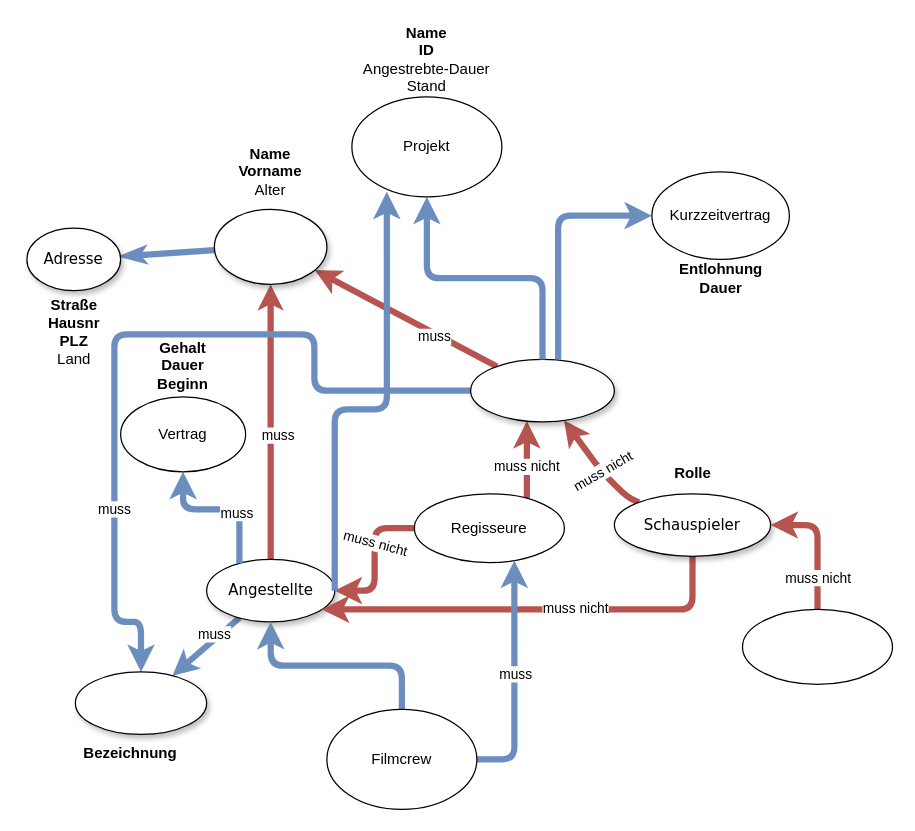
Some shapes in this 915 by 831 pixel diagram are drawn without their labels. The shapes that lost their labels are listed below. From the top down, each one's centre as x and y in pixels, then its label:
pixel 271 248: Personen
pixel 543 392: Selbstständig
pixel 816 646: Künstler
pixel 141 704: Beruf
